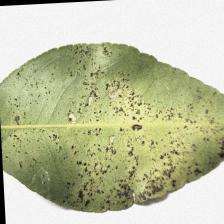canker: (72, 69, 178, 186)
